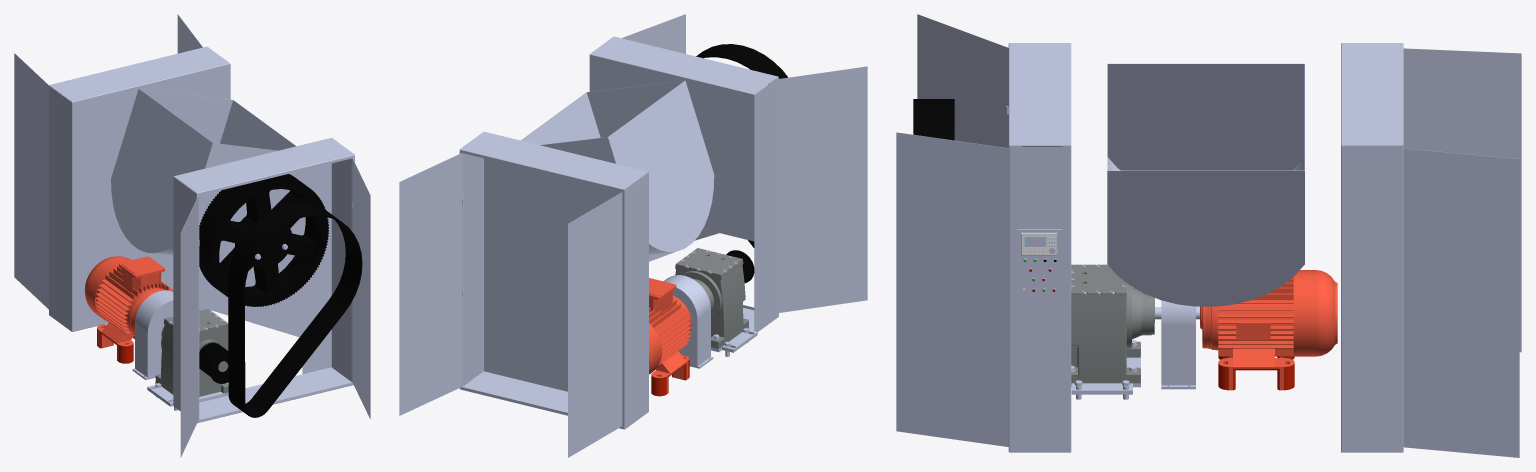
The picture shows the model from 3 angles, left to right: view 1: azimuth 30°, elevation 25°; view 2: azimuth 150°, elevation 25°; view 3: azimuth 270°, elevation 25°; orthographic projection. The views are drawn at different scales.
Parts seen in each view (by area): view 1: gabinetes laterales, gabinetes laterale derecho, puerta (×4), bolw, dentada grande, banda, 90L, reductor, reductor 2, dentada chica, plancha reductor; view 2: puerta (×4), gabinetes laterales, gabinetes laterale derecho, bolw, 90L, reductor, reductor 2, banda; view 3: puerta (×4), bolw, gabinetes laterales, gabinetes laterale derecho, 90L, reductor, reductor 2, base de panel, banda, pantalla, plancha reductor.
Boxes of the visible parts, x1,y1,x2,y2 form: gabinetes laterales: (49,46,230,331); gabinetes laterale derecho: (173,137,354,422); puerta (×4): (14,14,370,457); bolw: (111,88,295,255); dentada grande: (199,174,328,306); banda: (228,203,362,417); 90L: (84,256,173,363); reductor: (155,309,228,396); reductor 2: (132,290,173,379); dentada chica: (199,342,228,383); plancha reductor: (147,382,228,406); puerta (×4): (399,14,867,457); gabinetes laterales: (459,131,648,429); gabinetes laterale derecho: (589,36,778,331); bolw: (521,80,714,254); 90L: (649,278,691,396); reductor: (675,248,748,348); reductor 2: (664,275,713,368); banda: (696,44,787,247); puerta (×4): (896,14,1521,457); bolw: (1107,63,1304,306); gabinetes laterales: (1341,43,1403,452); gabinetes laterale derecho: (1008,43,1071,452); 90L: (1200,270,1337,390); reductor: (1071,264,1154,383); reductor 2: (1161,300,1195,389); base de panel: (1017,229,1062,300); banda: (913,99,954,140); pantalla: (1021,232,1057,255); plancha reductor: (1071,357,1140,394).
Size of the model in its own units: 265 by 280 by 481.
